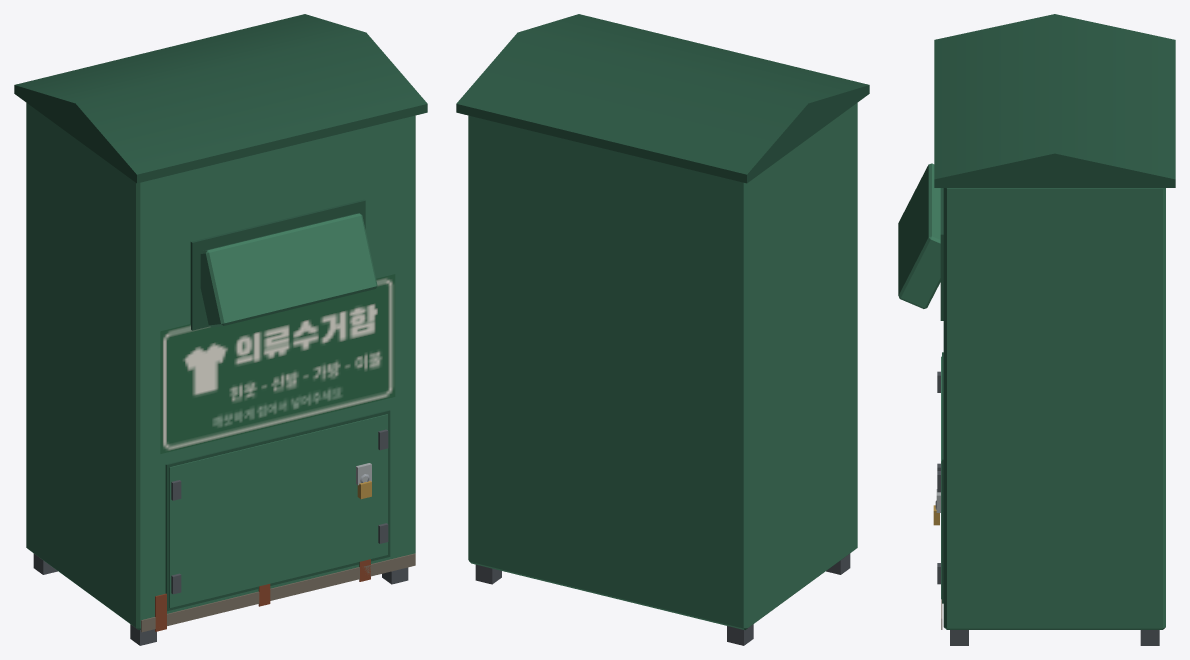
Rendered from SC_Util_Clothes_Bin.gltf.
3 renders of one model, left to right at view 1: azimuth 30°, elevation 25°; view 2: azimuth 150°, elevation 25°; view 3: azimuth 270°, elevation 25°, orthographic.
Parts seen in each view (by area): view 1: SC_Util_Clothes_Bin; view 2: SC_Util_Clothes_Bin; view 3: SC_Util_Clothes_Bin.
Boxes of the visible parts, x1,y1,x2,y2 form: SC_Util_Clothes_Bin: [14, 14, 427, 645]; SC_Util_Clothes_Bin: [456, 14, 869, 645]; SC_Util_Clothes_Bin: [898, 14, 1175, 645].
Bounding box in the file's own units: 1.04 × 1.73 × 0.8726.
2 materials, 2 textured.
